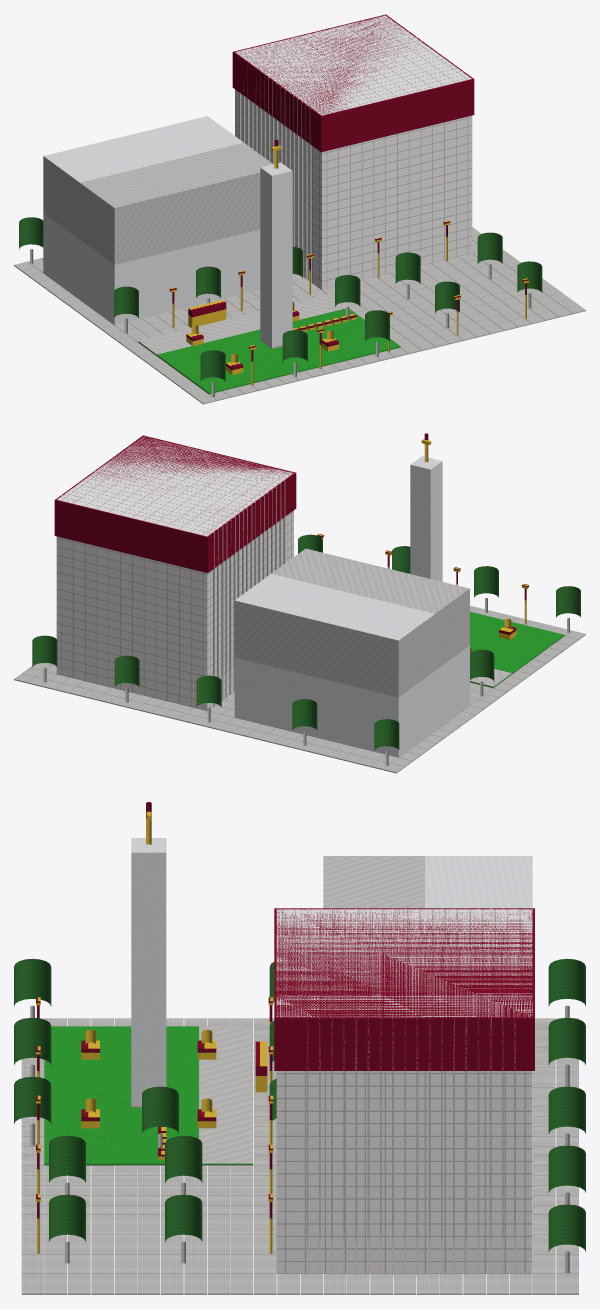
The picture shows the model from 3 angles, top to bottom: view 1: azimuth 30°, elevation 25°; view 2: azimuth 150°, elevation 25°; view 3: azimuth 270°, elevation 25°; orthographic projection. The views are drawn at different scales.
Visible parts, largest first — view 1: 28185_B28_Incheon_Catholic_University; view 2: 28185_B28_Incheon_Catholic_University; view 3: 28185_B28_Incheon_Catholic_University.
Boxes of the visible parts, x1,y1,x2,y2 form: 28185_B28_Incheon_Catholic_University: (14,14,585,404); 28185_B28_Incheon_Catholic_University: (14,433,585,773); 28185_B28_Incheon_Catholic_University: (14,802,585,1294).
Bounding box in the file's own units: 55.95 × 28.5 × 49.2.
Materials: 1 (1 with a texture image).
